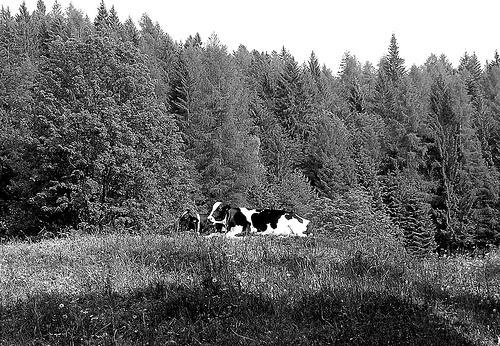cow: (205, 197, 316, 240)
